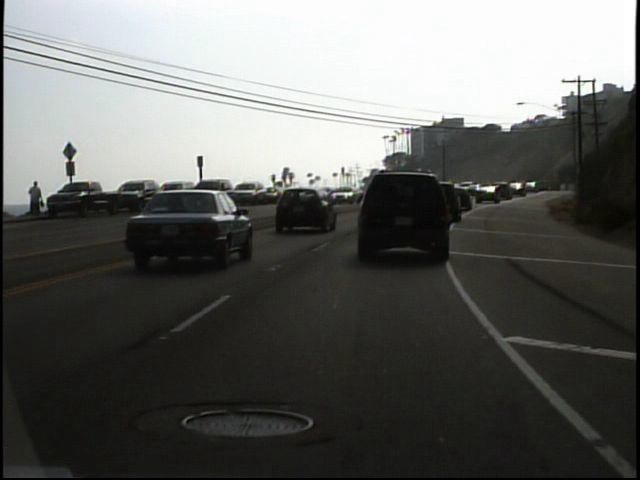person: (29, 177, 49, 220)
